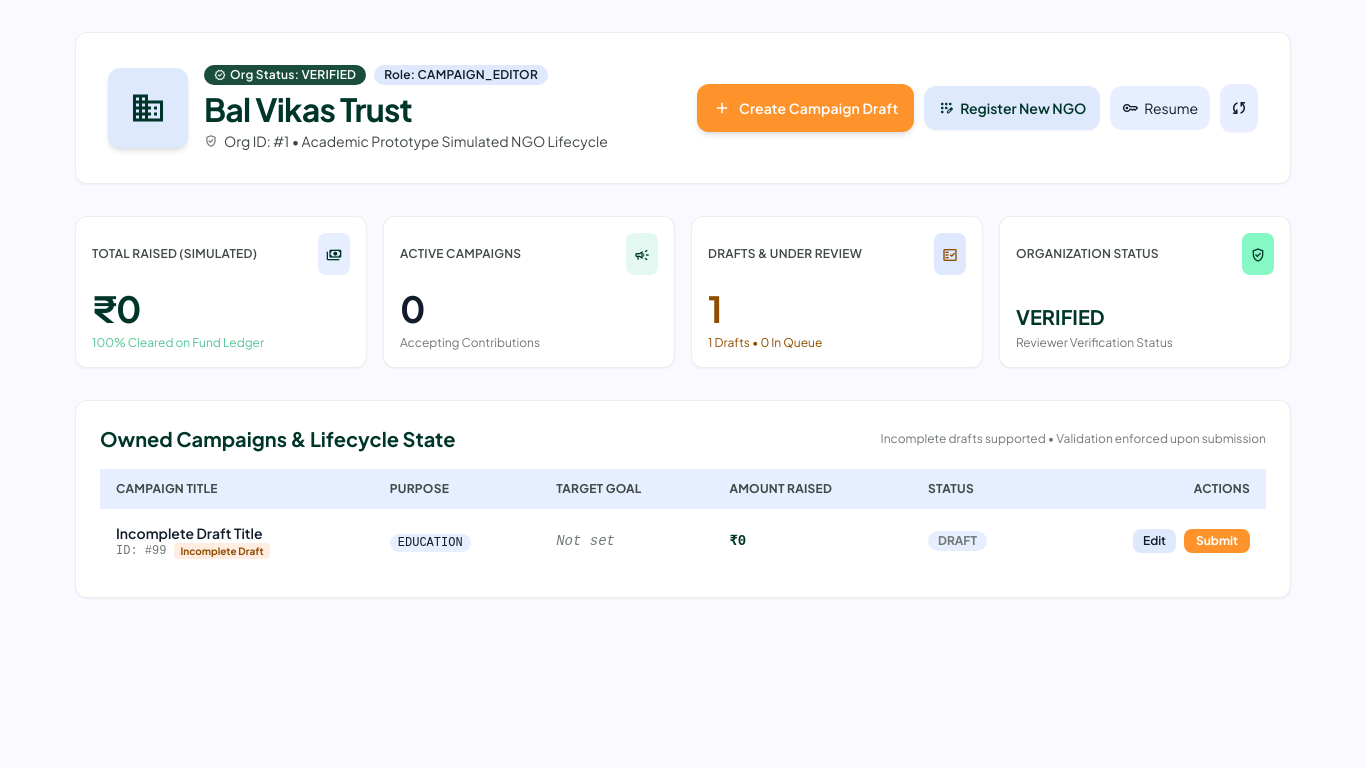
Test: NGO Workspace & Campaign Lifecycle Vertical Slice › blocks submission and surfaces validation error when draft is incomplete
Expected: the text "Incomplete Draft Title" is shown, top-left (116, 524), bottom-right (262, 542)
What coordinates should you click on to do the following:
click the button "Submit"
I would click on:
 (1217, 541)
Its box is top-left (1184, 529), bottom-right (1250, 553).
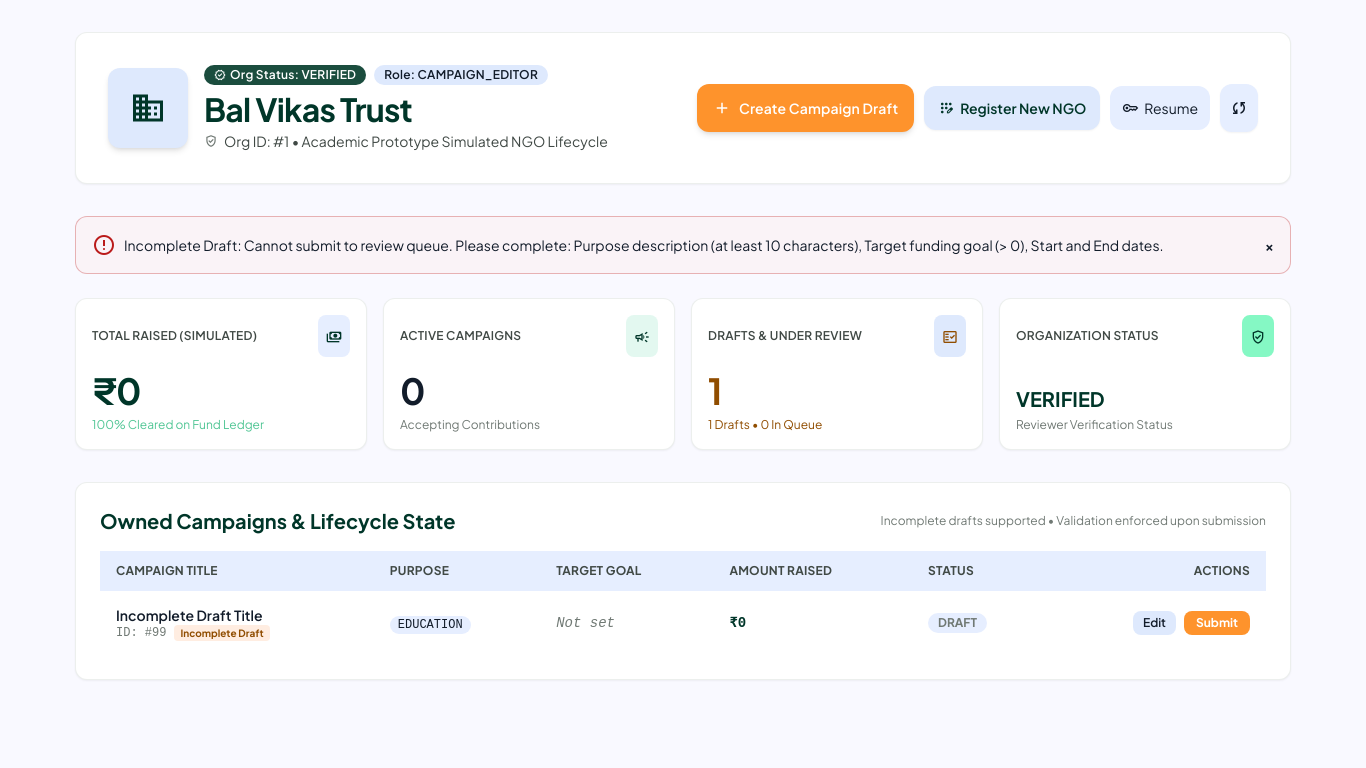
Expected: the text "Incomplete Draft: Cannot submit to review queue" is shown, top-left (124, 236), bottom-right (1164, 254)
